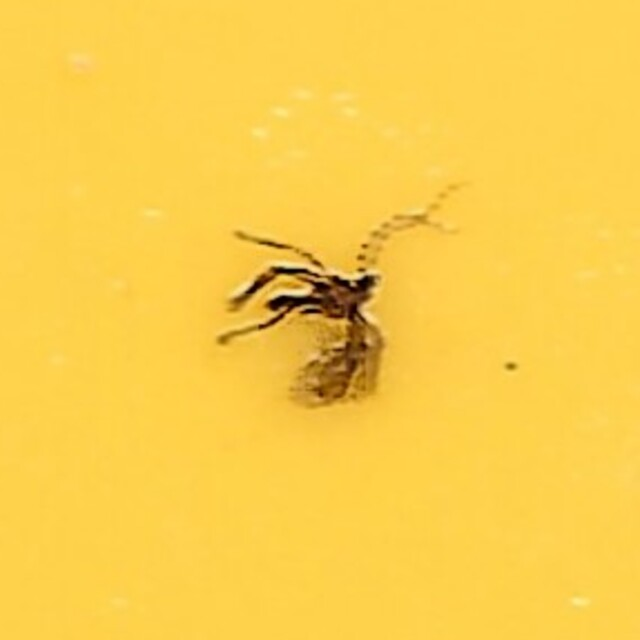Nematocera: (223, 222, 417, 418)
